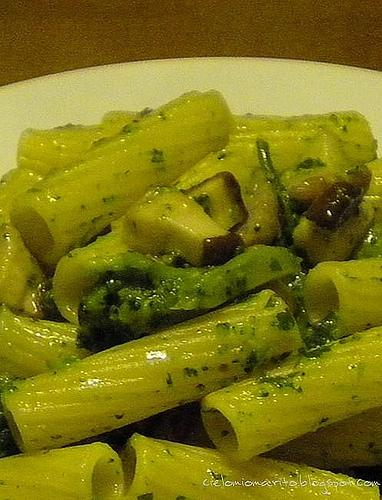broccoli: (74, 244, 304, 354), (257, 140, 326, 247), (0, 222, 59, 320), (0, 372, 23, 458)
